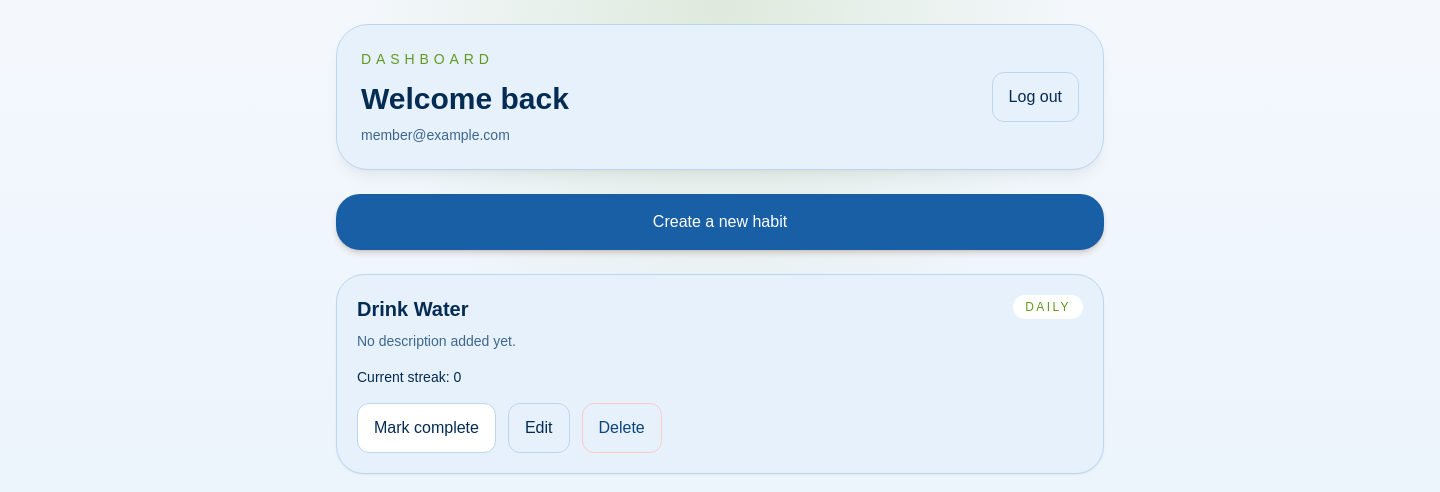
Test: habit form › toggles completion and updates the streak display
Check: the element with test id "dashboard-page" is shown, box [336,24,1104,474]
Check: the text with test id "habit-streak-drink-water" reads "Current streak: 0", box [357,369,461,385]
Click the button with test id "habit-complete-drink-water" at [426, 428], box [357,403,496,453]
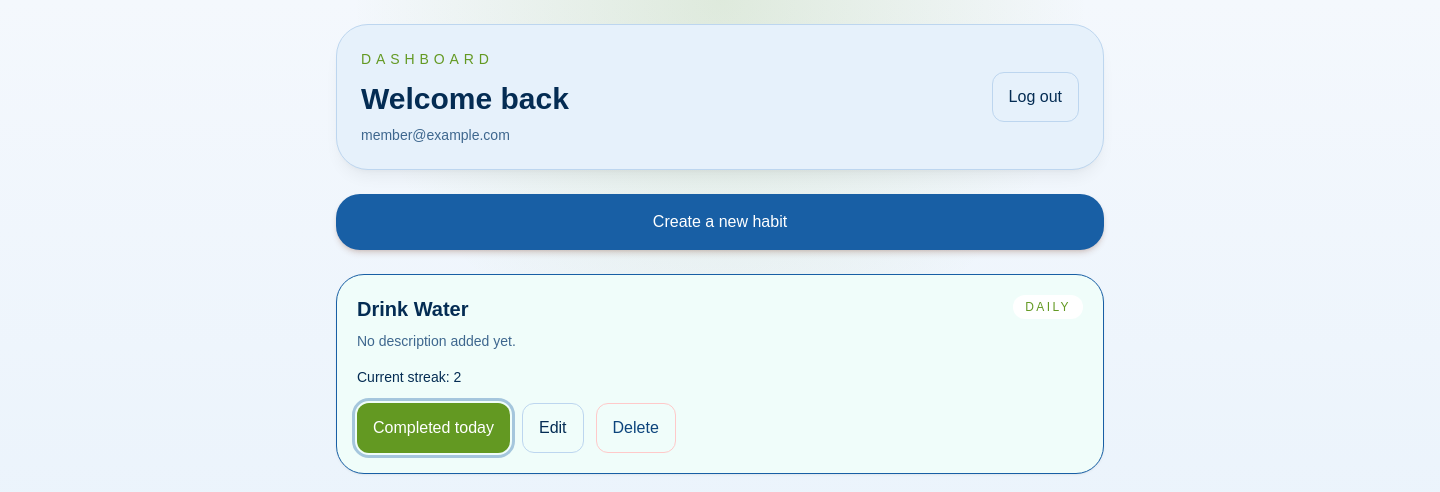
Check: the text with test id "habit-streak-drink-water" reads "Current streak: 2", box [357,369,461,385]
Check: the button "Completed today" is shown, box [357,403,510,453]
